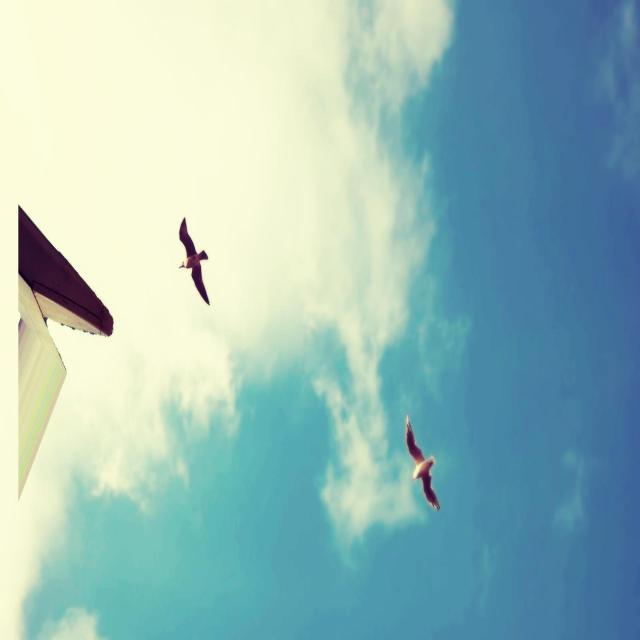airplane: (17, 203, 114, 500)
